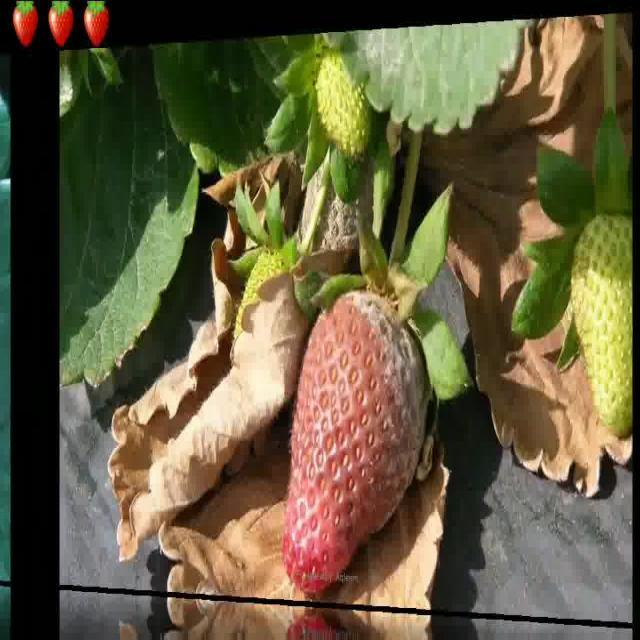Moho gris: (282, 284, 429, 596), (274, 101, 385, 278)
